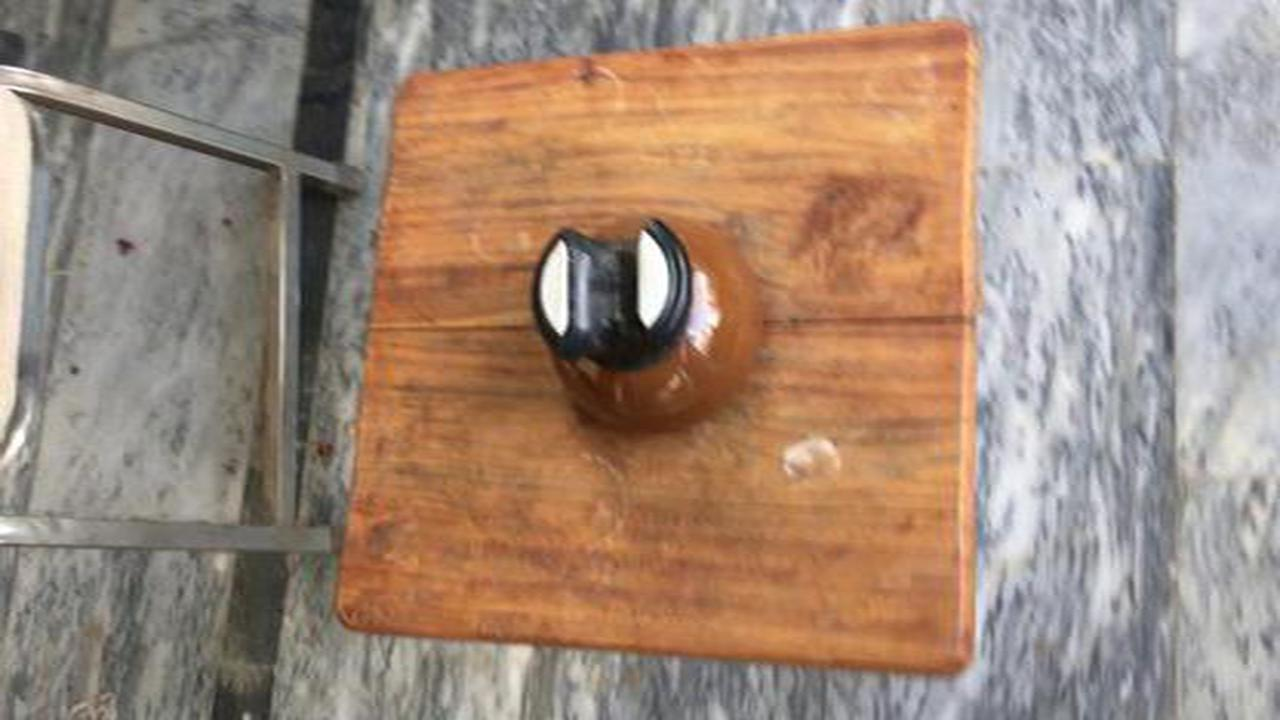insulator_pin: (508, 204, 794, 459)
